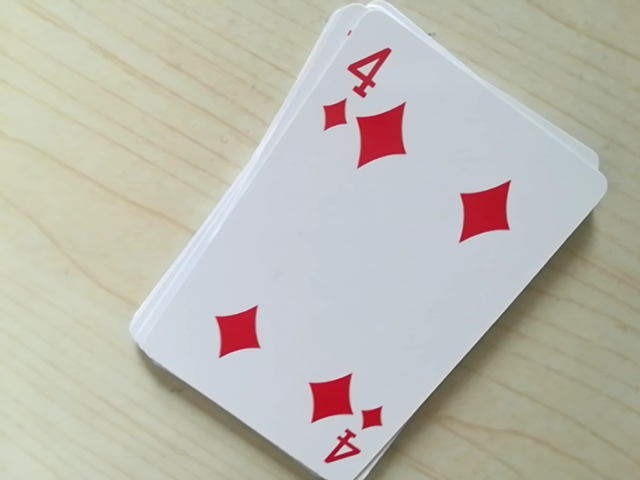fk 4: (312, 25, 393, 141), (312, 404, 388, 474)
